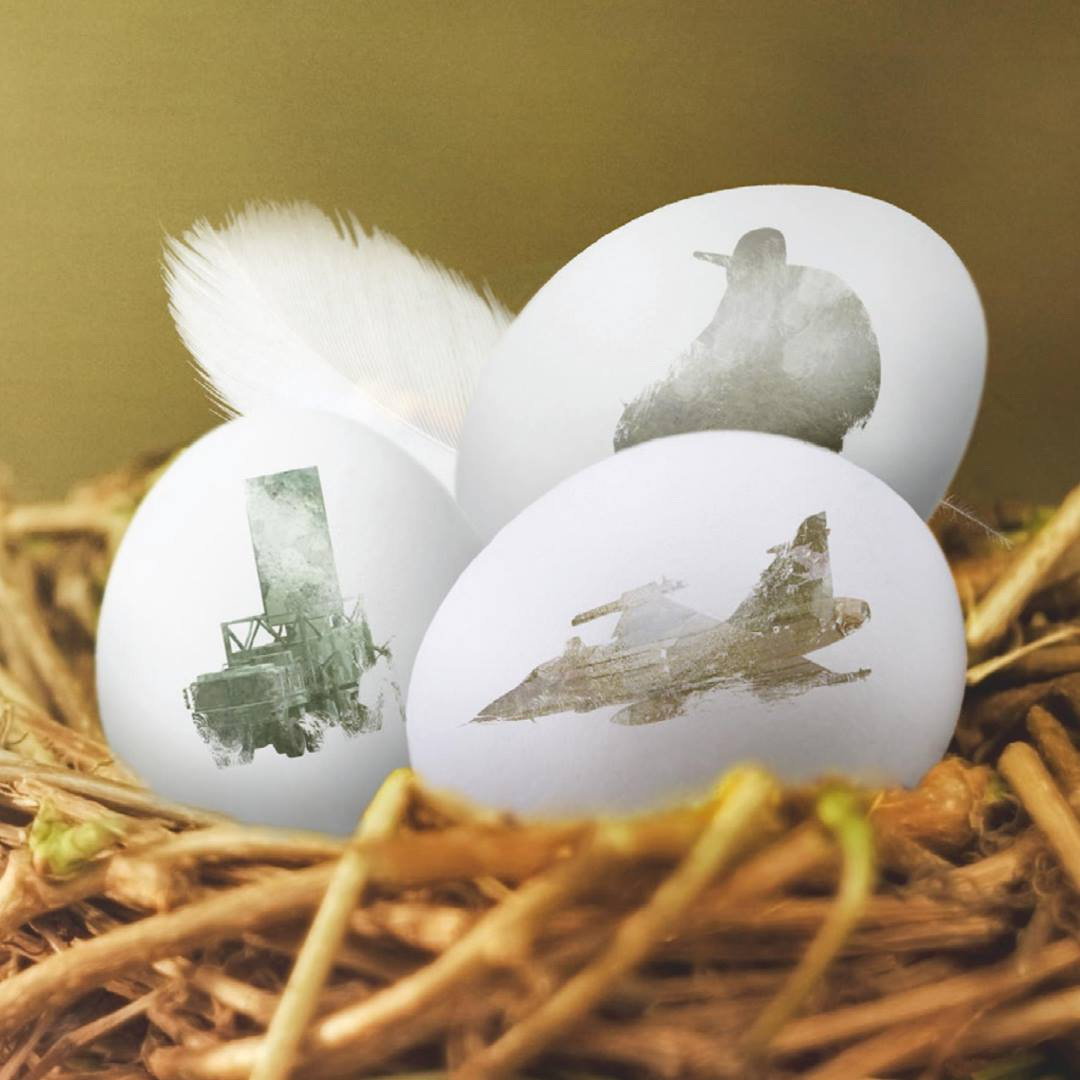JAS39: (454, 510, 872, 729)
